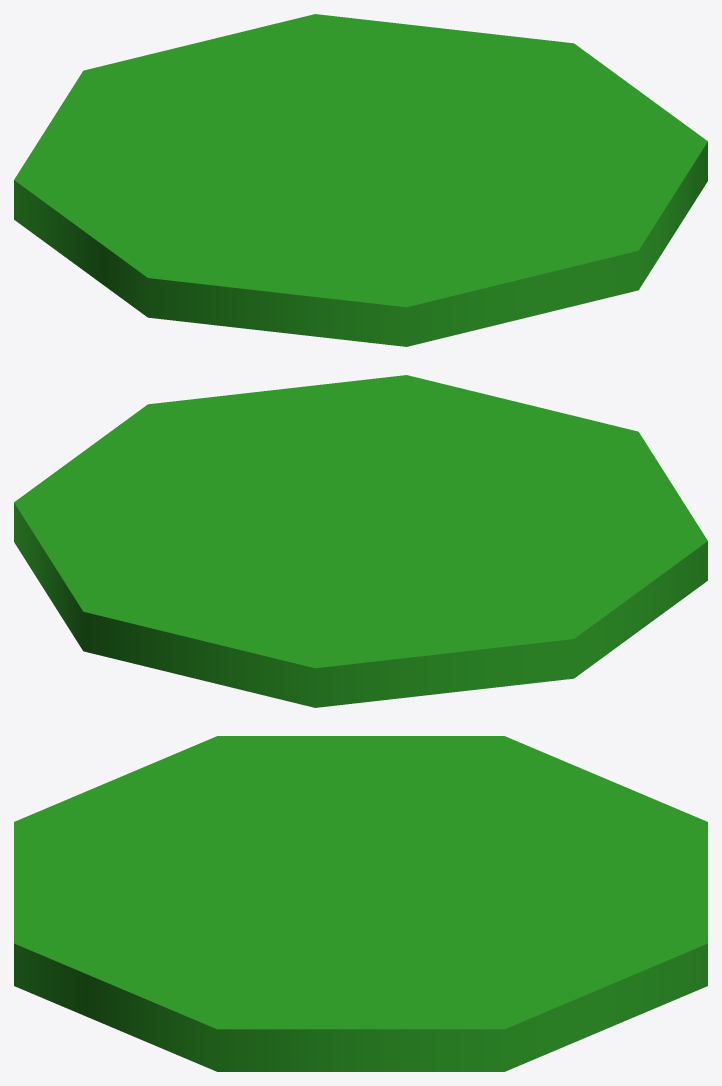
File: Foot_Arbre_v1_003.FBX
3 views of the same model, one above another, from view 1: azimuth 30°, elevation 25°; view 2: azimuth 150°, elevation 25°; view 3: azimuth 270°, elevation 25° (orthographic). The views are drawn at different scales.
Visible parts, largest first — view 1: Arène001; view 2: Arène001; view 3: Arène001.
Boxes of the visible parts, <box> form: Arène001: <box>14,14,707,346</box>; Arène001: <box>14,375,707,707</box>; Arène001: <box>14,736,707,1071</box>.
Bounding box in the file's own units: 739 × 50 × 739.
